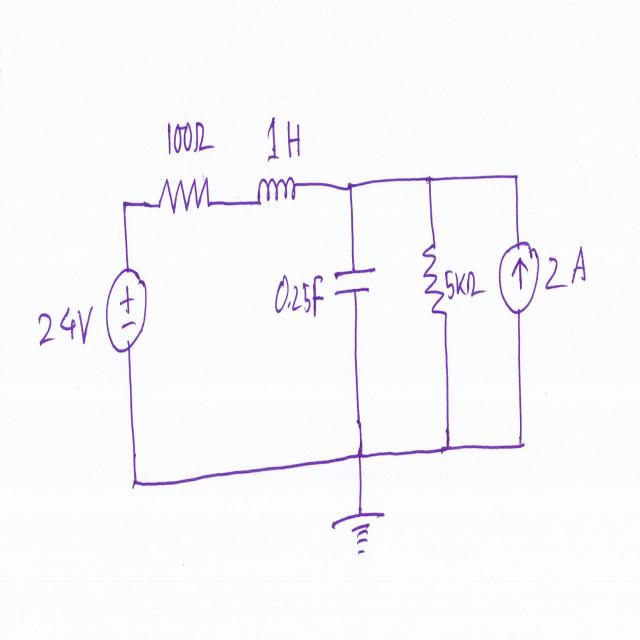capacitor: (332, 266, 378, 303)
current_source: (498, 232, 541, 324)
ground: (327, 505, 392, 561)
inductor: (254, 167, 301, 218)
resistor: (152, 170, 211, 222), (419, 235, 451, 327)
voltage_source: (103, 261, 149, 360)
